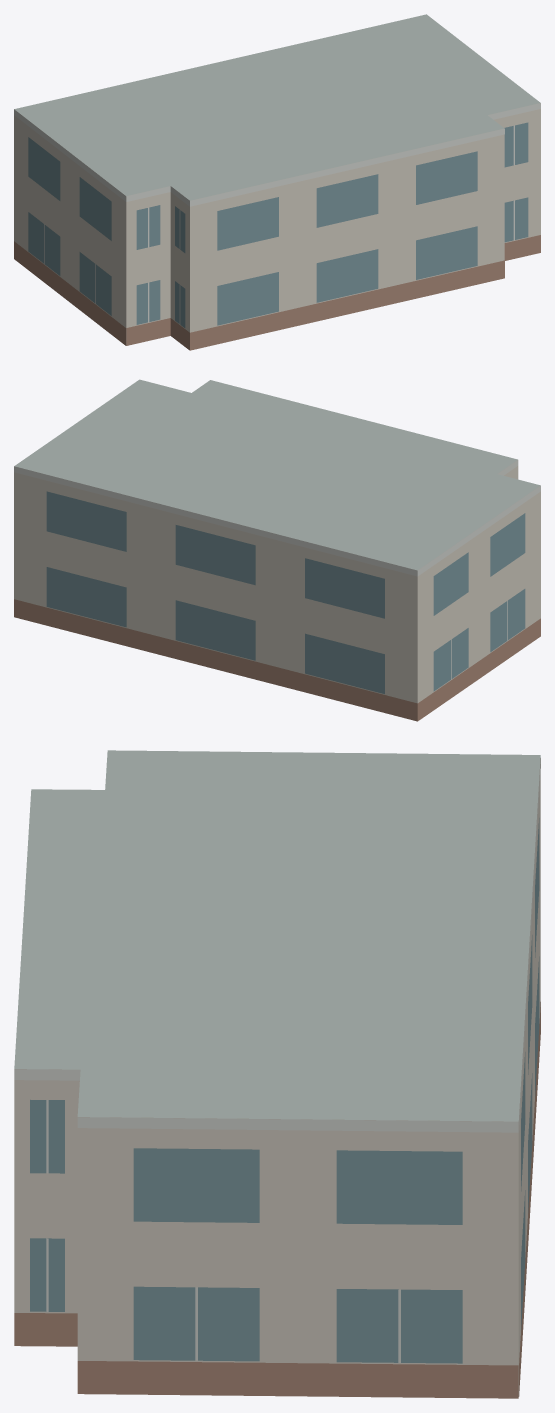
The model's file is survey-upis-32838878.glb.
3 renders of one model, top to bottom at view 1: azimuth 30°, elevation 25°; view 2: azimuth 150°, elevation 25°; view 3: azimuth 270°, elevation 25°, orthographic. The views are drawn at different scales.
Visible parts, largest first — view 1: survey-upis-32838878.tmp; view 2: survey-upis-32838878.tmp; view 3: survey-upis-32838878.tmp.
Boxes of the visible parts, x1=… form: survey-upis-32838878.tmp: x1=14, y1=14, x2=540, y2=350; survey-upis-32838878.tmp: x1=14, y1=379, x2=540, y2=721; survey-upis-32838878.tmp: x1=14, y1=750, x2=540, y2=1398.
Size of the model in its own units: 17.55 by 6.1 by 10.52.
